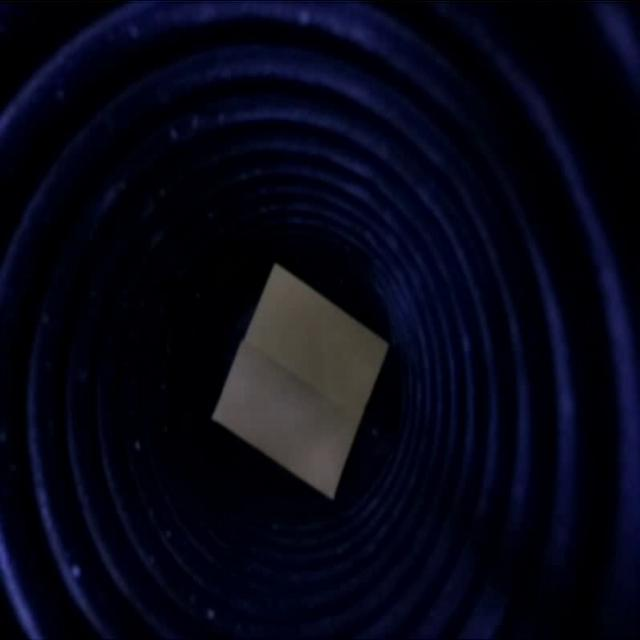obstacles: (212, 256, 392, 494)
